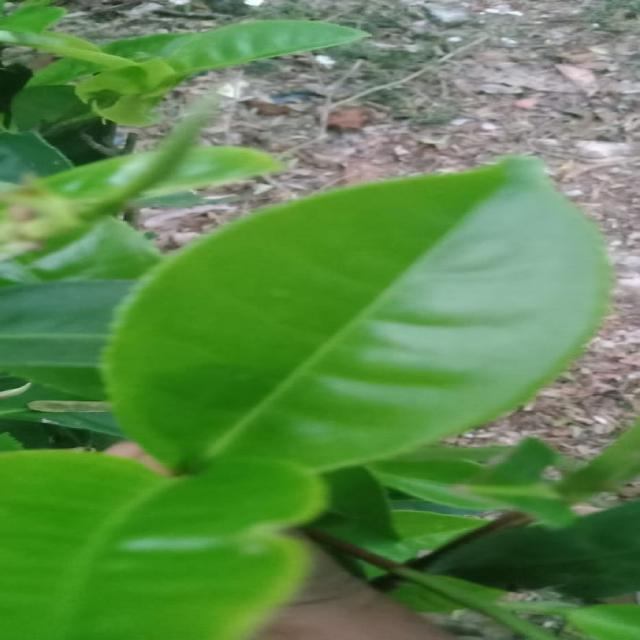Category B(2-4 days): (98, 149, 629, 484)
